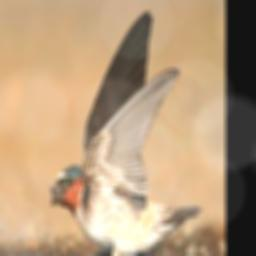Swallow: (50, 9, 203, 256)
